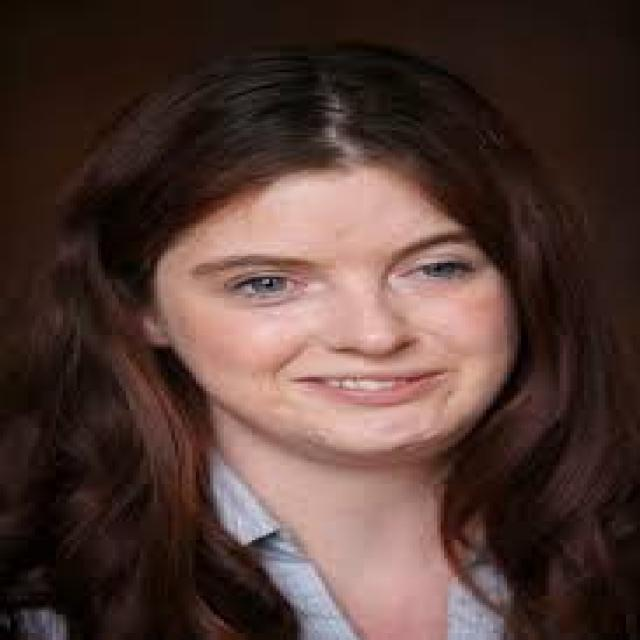stroke_face: (124, 88, 578, 503)
